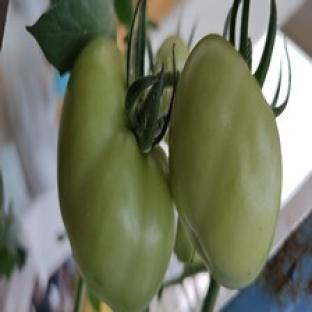Tomato: (59, 38, 175, 311), (169, 35, 281, 288), (155, 35, 189, 72)
